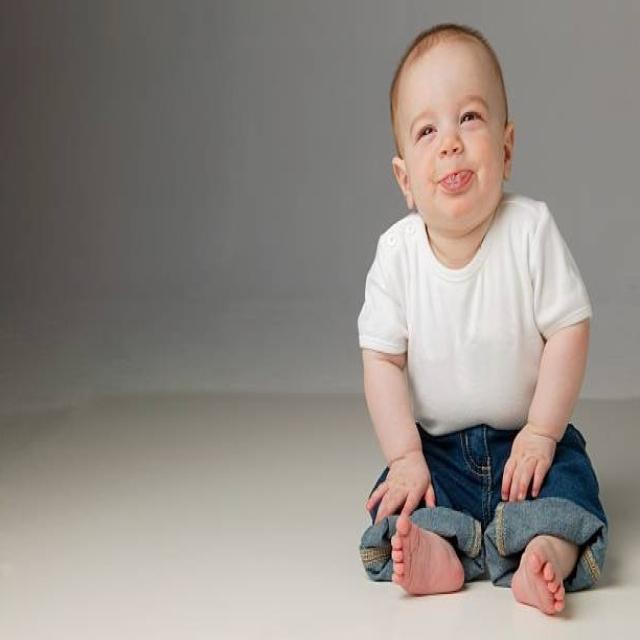Spitting: (382, 24, 520, 310)
